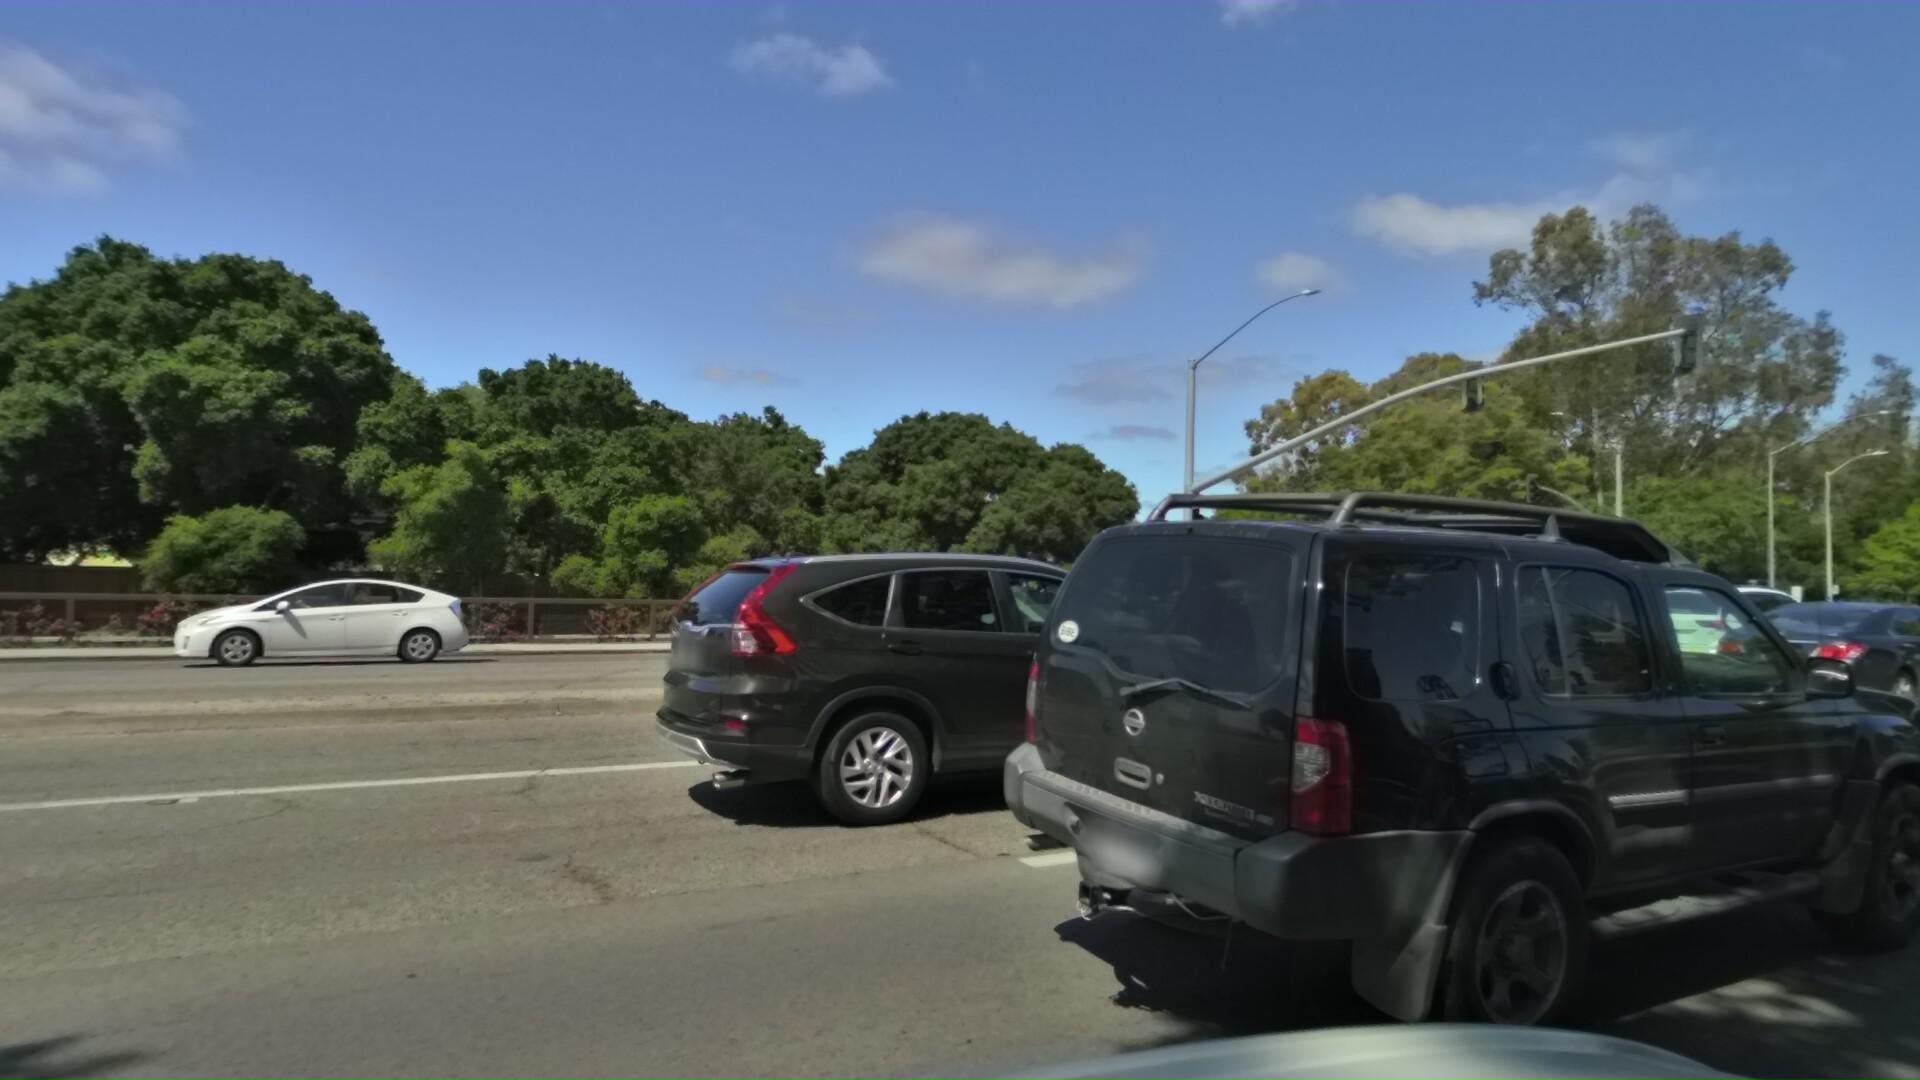car: (992, 394, 1920, 1080), (655, 514, 1325, 848), (1251, 558, 1584, 716), (115, 566, 447, 671), (1710, 583, 1920, 737), (1596, 564, 1865, 675)
